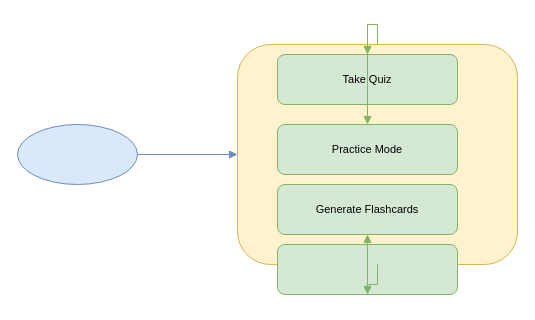
The diagram is 535 pixels wide and 320 high, and some of its shapes have lost their labels. The shapes that lost their labels are listed below. From the top down, each one's centre as x and y in pixels, then its label:
At point 77,154: "User".
At point 367,269: "Analyze Weakness".
